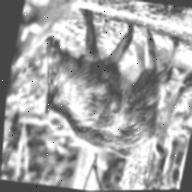boar: (20, 10, 192, 169)
